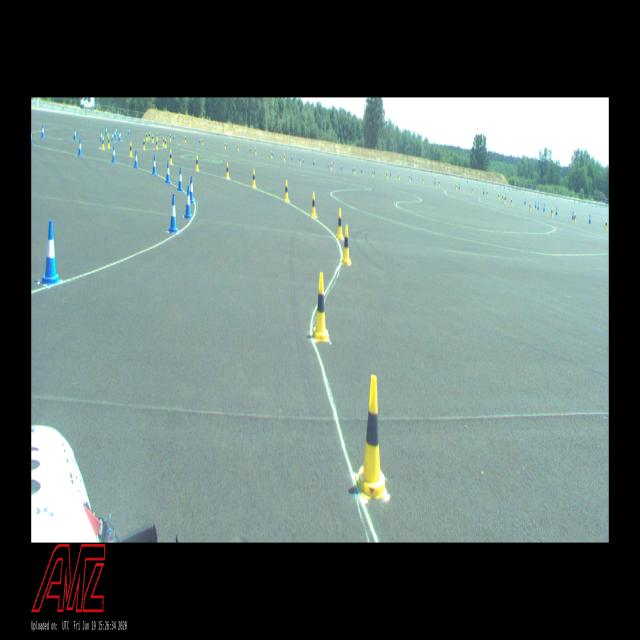blue_cone: (40, 220, 60, 284), (169, 195, 178, 234), (185, 186, 192, 218), (177, 168, 183, 190), (190, 176, 194, 203), (152, 155, 157, 175), (166, 161, 170, 184), (134, 150, 138, 168), (112, 144, 116, 162), (78, 139, 82, 156), (40, 124, 44, 138), (73, 128, 77, 141), (31, 129, 33, 145), (100, 131, 103, 141), (112, 131, 114, 142), (589, 214, 591, 223), (118, 132, 120, 141), (556, 207, 558, 215), (250, 144, 252, 152), (106, 127, 108, 135), (572, 212, 574, 219), (128, 128, 130, 134), (199, 137, 201, 143), (115, 129, 116, 138)
yellow_cone: (355, 375, 388, 498), (312, 272, 330, 342), (342, 225, 351, 265), (336, 208, 344, 239), (311, 192, 317, 218), (284, 180, 289, 201), (252, 169, 256, 187), (226, 162, 230, 179), (196, 155, 200, 171), (129, 142, 133, 156), (170, 149, 173, 165), (102, 136, 105, 150), (143, 138, 146, 150), (107, 135, 110, 147), (162, 136, 165, 146), (164, 138, 167, 148), (605, 220, 608, 229), (510, 197, 512, 206), (156, 140, 158, 149), (146, 132, 148, 141), (254, 146, 256, 155), (574, 213, 576, 222), (156, 132, 158, 141), (551, 208, 553, 216), (530, 203, 532, 211), (152, 134, 154, 142), (148, 132, 150, 139), (202, 138, 204, 144), (238, 144, 239, 151), (185, 136, 186, 142)
